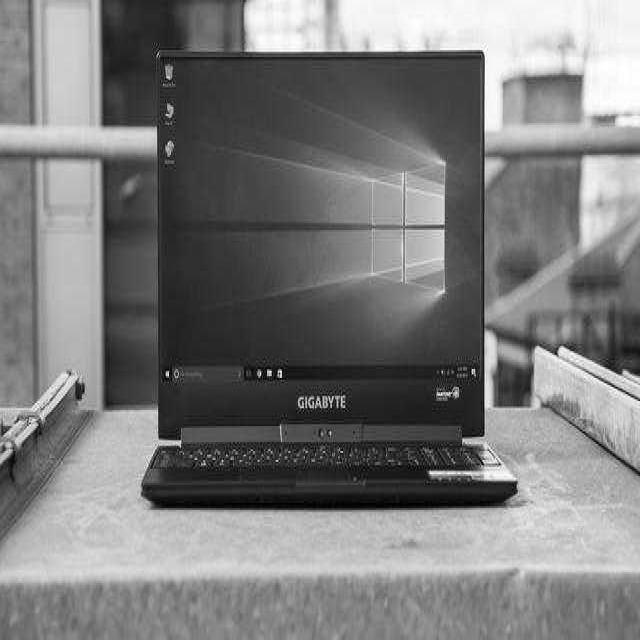laptop: (160, 59, 483, 493)
